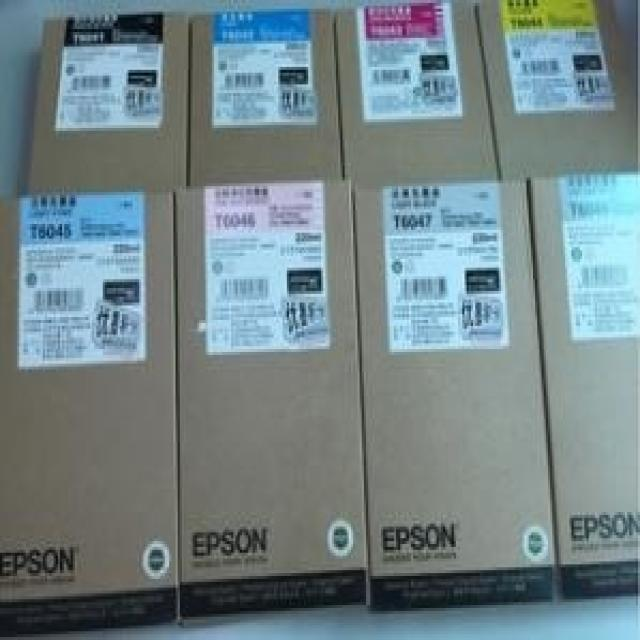box: (172, 178, 370, 625), (354, 181, 555, 608), (527, 175, 638, 600), (26, 9, 195, 193), (335, 3, 502, 187), (188, 9, 344, 188)
